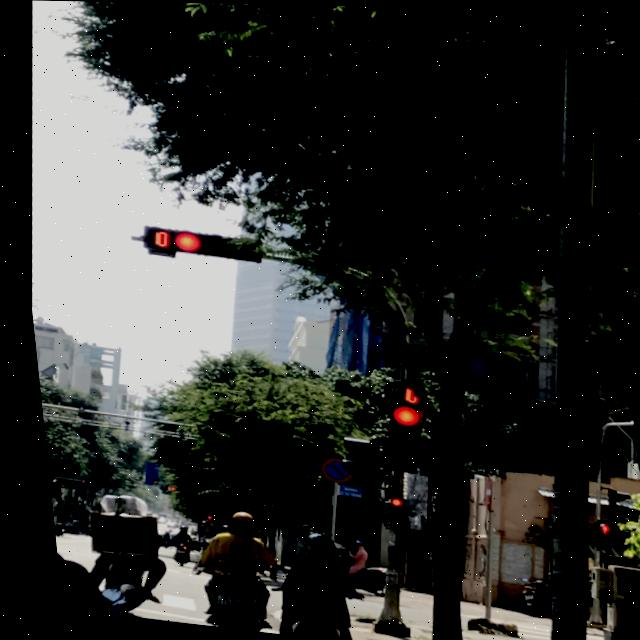Red: (160, 218, 265, 267), (366, 399, 421, 476), (376, 492, 401, 528)
